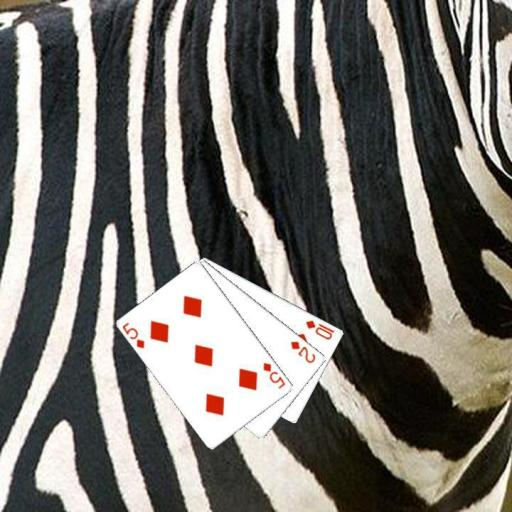10D: (303, 317, 336, 342)
2D: (288, 338, 317, 365)
5D: (261, 359, 288, 391), (120, 319, 147, 351)
